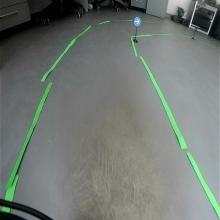right: (134, 16, 141, 26)
